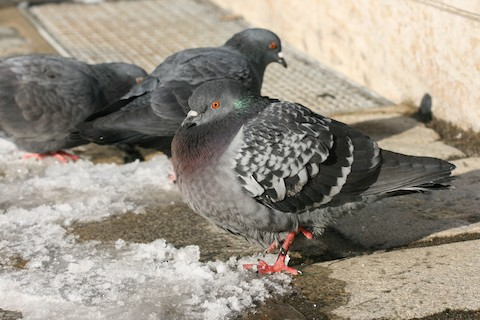pigeon: (167, 75, 470, 282), (80, 19, 290, 182), (4, 50, 150, 170)
